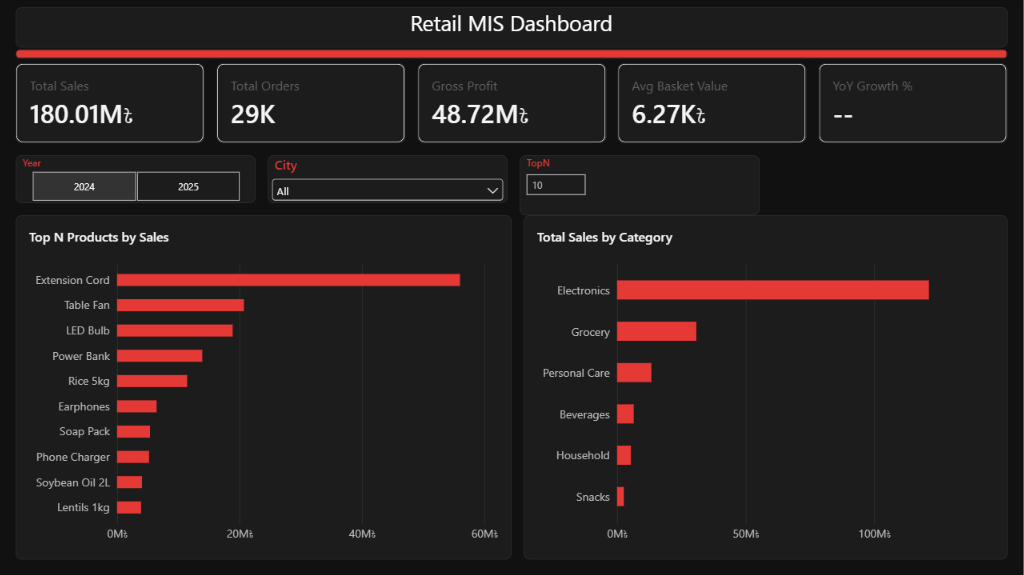

What the dashboard file says about the page in this screenshot:
{"tool":"powerbi","page":{"name":"Products","canvas":[1280,720],"ordinal":2},"visuals":[{"type":"textbox","box":[20,10,1240,50],"z":0},{"type":"shape","box":[20,62,1240,12],"z":1000},{"type":"cardVisual","fields":{"Data":["_Measures.Total Sales"]},"box":[20,80,236,100],"z":2000},{"type":"cardVisual","fields":{"Data":["_Measures.Total Orders"]},"box":[271,80,236,100],"z":3000},{"type":"cardVisual","fields":{"Data":["_Measures.Gross Profit"]},"box":[522,80,236,100],"z":4000},{"type":"cardVisual","fields":{"Data":["_Measures.Avg Basket Value"]},"box":[773,80,236,100],"z":5000},{"type":"cardVisual","fields":{"Data":["_Measures.YoY Growth %"]},"box":[1024,80,236,100],"z":6000},{"type":"slicer","fields":{"Values":["Dim_Date.Year"]},"box":[20,195,300,60],"z":7000},{"type":"slicer","fields":{"Values":["Dim_Store.City"]},"box":[335,195,300,60],"z":8000},{"type":"slicer","fields":{"Values":["TopN.TopN"]},"box":[650,195,300,75],"z":8001},{"type":"clusteredBarChart","title":"Top N Products by Sales","fields":{"Category":["Dim_Product.ProductName"],"Y":["_Measures.Total Sales"]},"box":[20,270,620,430],"z":8002},{"type":"clusteredBarChart","fields":{"Category":["Dim_Product.Category"],"Y":["_Measures.Total Sales"]},"box":[655,270,605,430],"z":8003}]}

Visuals, with their boxes in screenshot pixels (x1, y1, x2, y2), scaled from the page's 1280x720 canvas onto the 1024x575 screenshot:
textbox: 16, 8, 1008, 48
shape: 16, 50, 1008, 59
cardVisual - _Measures.Total Sales: 16, 64, 205, 144
cardVisual - _Measures.Total Orders: 217, 64, 406, 144
cardVisual - _Measures.Gross Profit: 418, 64, 606, 144
cardVisual - _Measures.Avg Basket Value: 618, 64, 807, 144
cardVisual - _Measures.YoY Growth %: 819, 64, 1008, 144
slicer - Dim_Date.Year: 16, 156, 256, 204
slicer - Dim_Store.City: 268, 156, 508, 204
slicer - TopN.TopN: 520, 156, 760, 216
"Top N Products by Sales" clusteredBarChart: 16, 216, 512, 559
clusteredBarChart - Dim_Product.Category x _Measures.Total Sales: 524, 216, 1008, 559
